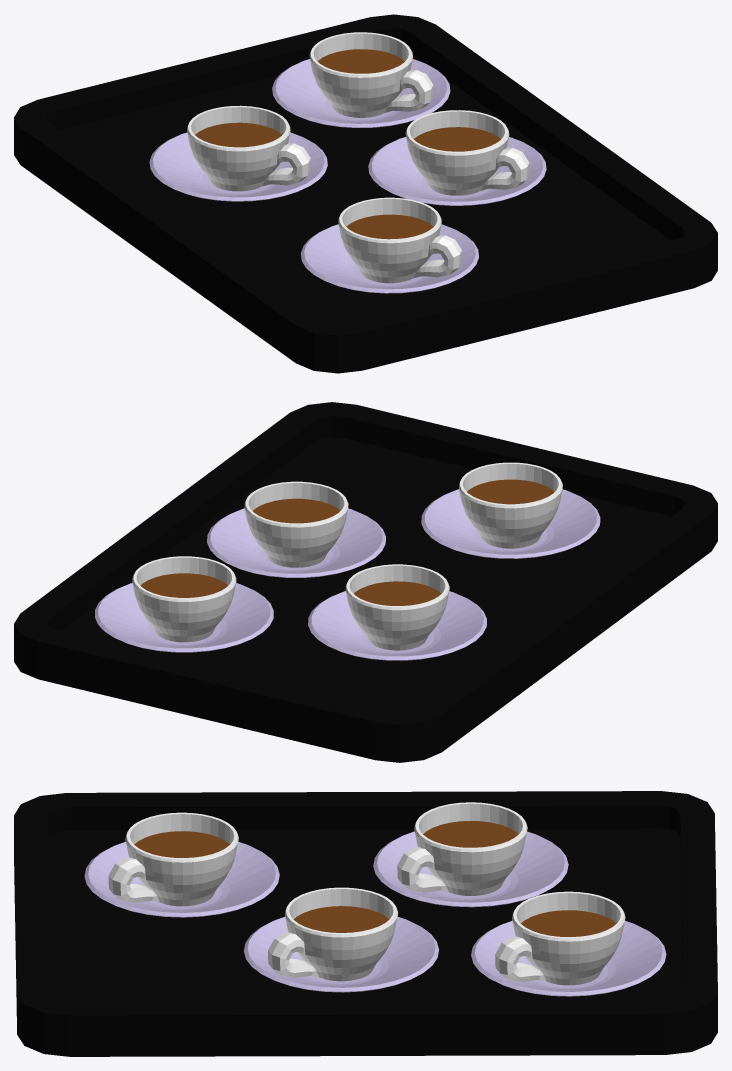
File: Bandeja.fbx
3 renders of one model, top to bottom at view 1: azimuth 30°, elevation 25°; view 2: azimuth 150°, elevation 25°; view 3: azimuth 270°, elevation 25°, orthographic. The views are drawn at different scales.
Parts seen in each view (by area): view 1: Bandeja, Taza, Taza.003, Taza.001, Taza.002; view 2: Bandeja, Taza.003, Taza.002, Taza.001, Taza; view 3: Bandeja, Taza, Taza.001, Taza.002, Taza.003.
Boxes of the visible parts, x1,y1,x2,y2 form: Bandeja: [14, 14, 717, 373]; Taza: [301, 197, 478, 293]; Taza.003: [149, 105, 327, 201]; Taza.001: [368, 110, 546, 205]; Taza.002: [272, 32, 450, 127]; Bandeja: [14, 402, 717, 762]; Taza.003: [308, 564, 486, 660]; Taza.002: [95, 556, 273, 652]; Taza.001: [207, 481, 385, 577]; Taza: [421, 462, 600, 558]; Bandeja: [14, 791, 717, 1056]; Taza: [84, 812, 279, 917]; Taza.001: [244, 887, 438, 992]; Taza.002: [471, 891, 666, 996]; Taza.003: [373, 802, 568, 907].
Size of the model in its own units: 37.92 by 6.02 by 50.22.
